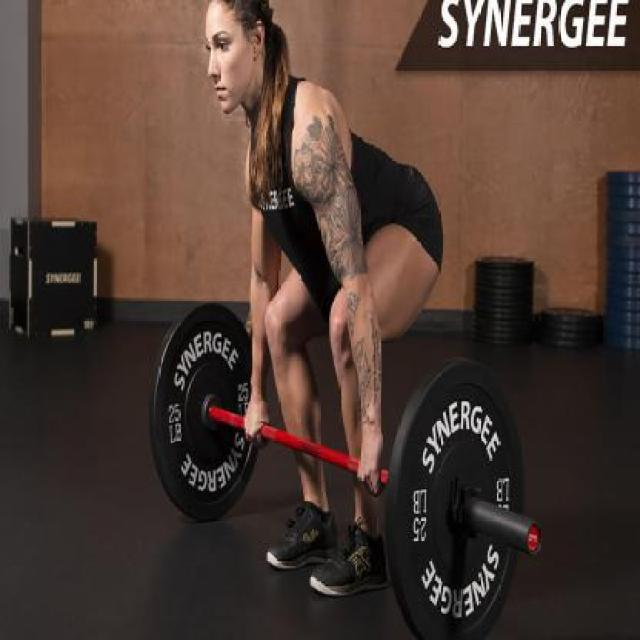barbell: (370, 347, 544, 640)
